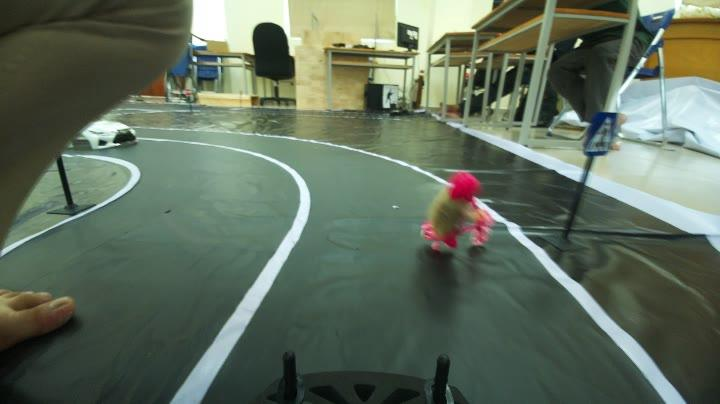crosswalk: (582, 104, 620, 166)
pedestrian: (424, 168, 500, 251)
